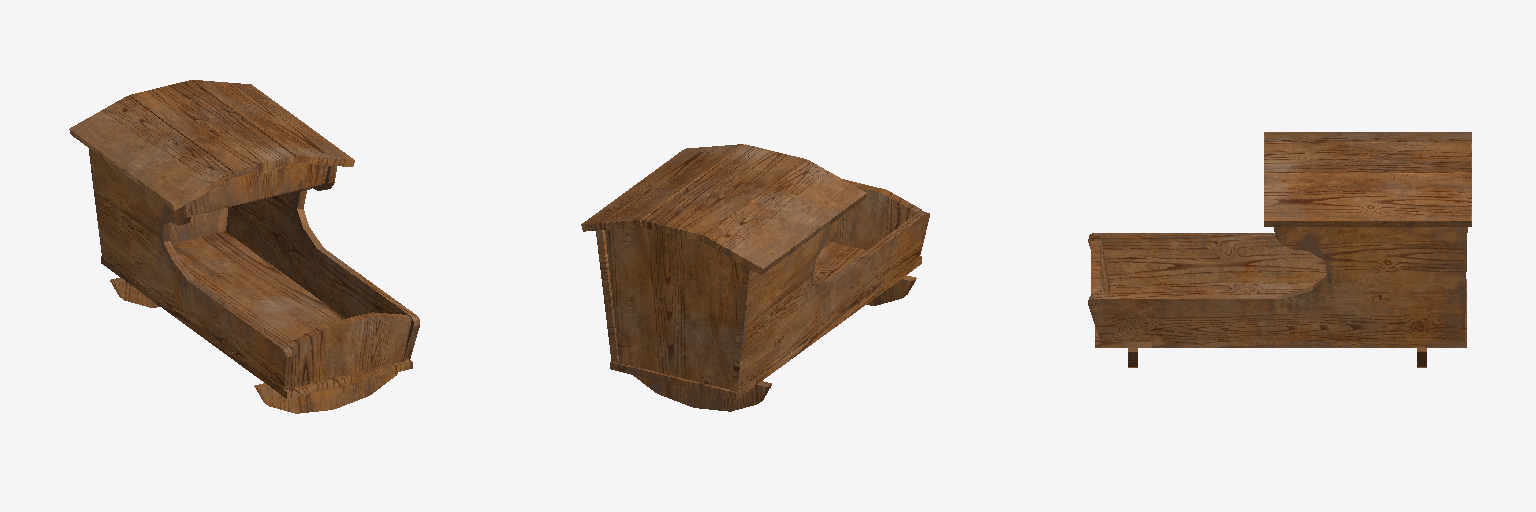
3 renders of one model, left to right at view 1: azimuth 30°, elevation 25°; view 2: azimuth 150°, elevation 25°; view 3: azimuth 270°, elevation 25°, orthographic.
Parts seen in each view (by area): view 1: cradle; view 2: cradle; view 3: cradle.
Boxes of the visible parts, box(x1,y1,x2,y2) form: cradle: box(69, 80, 419, 413); cradle: box(581, 144, 929, 411); cradle: box(1088, 132, 1471, 367).
Size of the model in its own units: 6.99 by 7.21 by 12.72.
1 materials, 1 textured.